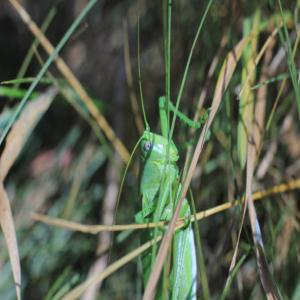locust: (113, 45, 220, 300)
